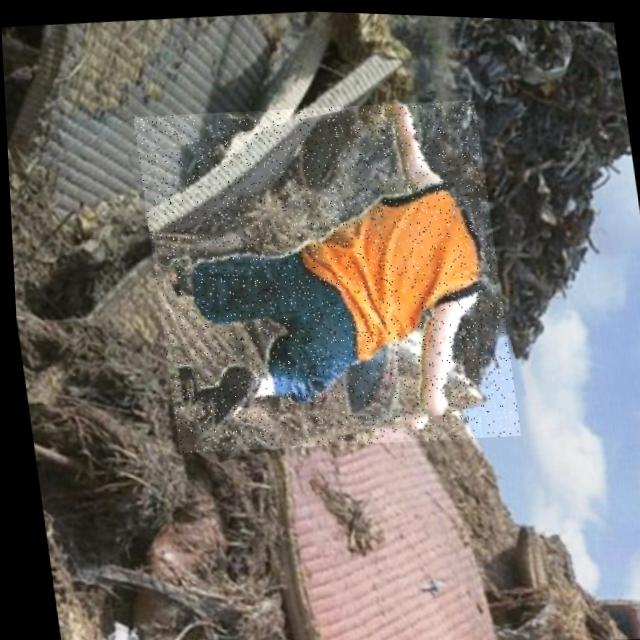Person in Rubble: (129, 86, 516, 461)
